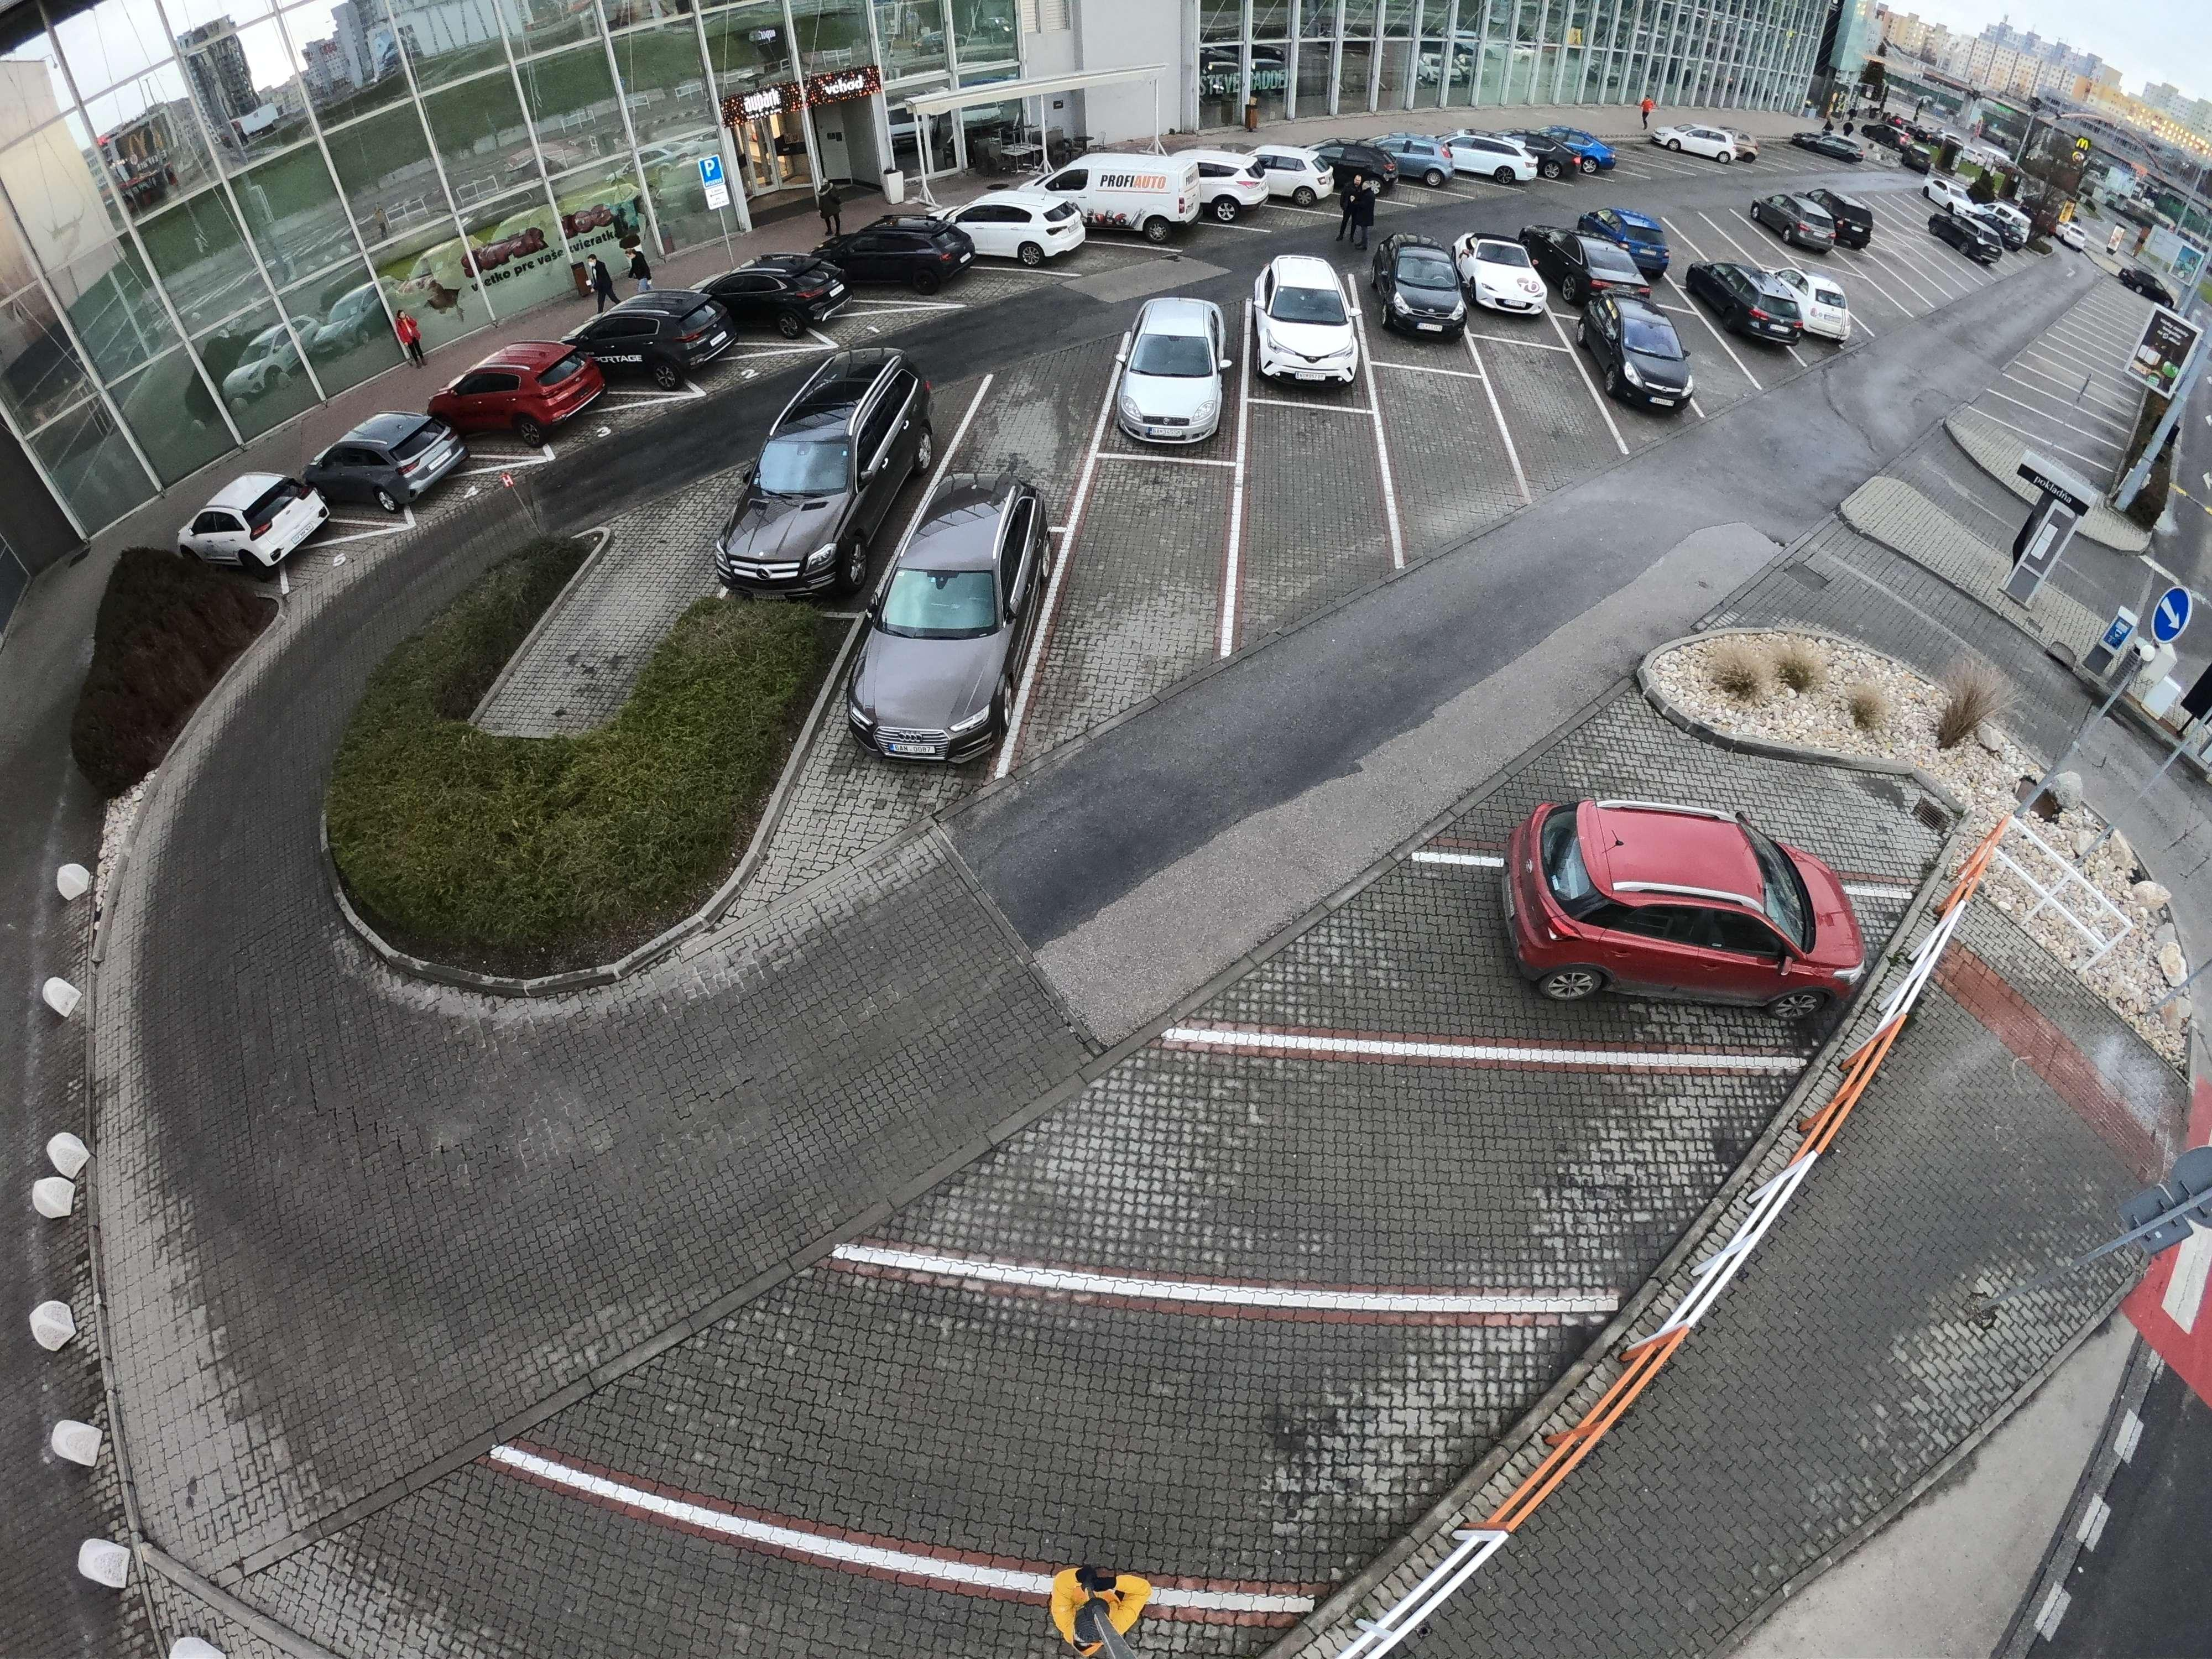empty: (1500, 789, 1892, 1012), (855, 464, 1059, 755), (705, 368, 904, 603), (1099, 282, 1249, 451), (1235, 242, 1371, 392), (1700, 254, 1860, 357), (319, 403, 469, 509), (583, 289, 740, 390), (456, 336, 610, 439), (1575, 291, 1703, 413), (192, 467, 341, 570), (834, 206, 965, 286), (960, 181, 1083, 265), (1372, 240, 1461, 347), (1456, 228, 1555, 319), (1550, 220, 1644, 298), (1930, 190, 2033, 256), (1588, 202, 1683, 268), (1773, 181, 1872, 244), (1749, 193, 1844, 253), (1362, 134, 1453, 185), (1456, 131, 1538, 186), (1247, 143, 1324, 202), (1536, 131, 1616, 181), (1658, 122, 1738, 167), (1797, 134, 1865, 167)
occupied: (923, 1291, 1263, 1601), (1228, 1051, 1496, 1324), (1059, 516, 1219, 643), (1259, 448, 1379, 558), (989, 364, 1103, 467), (1395, 396, 1484, 477), (1500, 366, 1578, 430), (1674, 223, 1721, 253)
